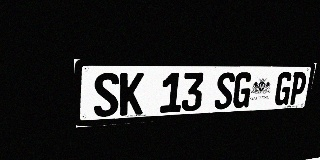1: (160, 72, 183, 113)
3: (181, 72, 204, 112)
G: (232, 72, 253, 108), (273, 72, 293, 106)
K: (119, 73, 144, 116)
P: (288, 72, 308, 105)
S: (93, 73, 119, 117), (214, 72, 236, 110)
